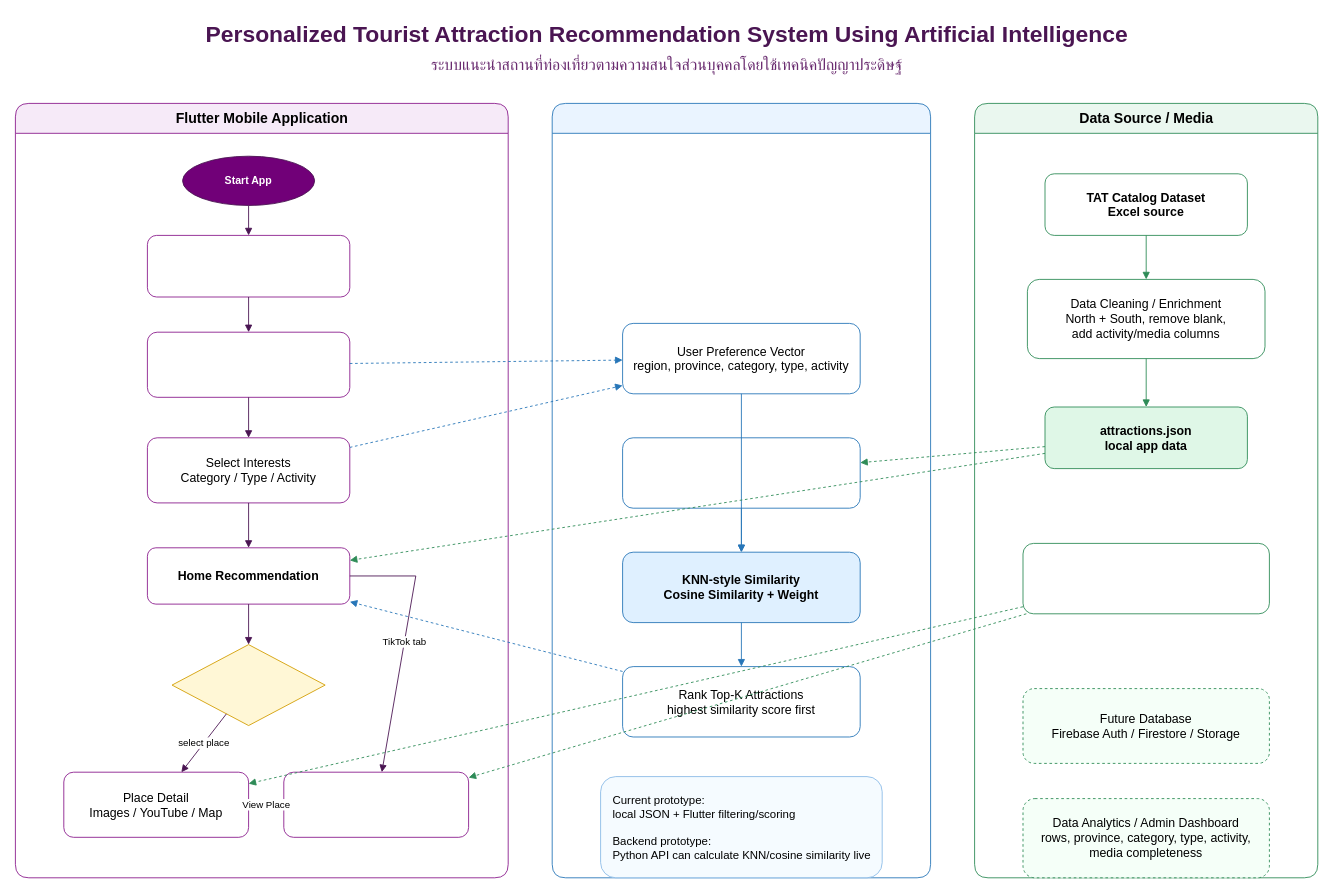
This 1333x893 diagram has some shape labels left out. The shapes that lost their labels are listed below. From the top down, each one's box as (x1, y1, x2, y2) in pixels, then its label:
(147, 235, 350, 297): Login / Register (placeholder UI)
(147, 331, 350, 397): Select Region / Province ภาคเหนือ / ภาคใต้
(622, 437, 860, 508): Attraction Feature Vector one-hot / weighted features
(551, 103, 931, 878): Recommendation / AI Logic
(1022, 543, 1269, 614): Media URLs IMAGE_URLS / YOUTUBE_URLS / TIKTOK_URLS
(171, 644, 325, 726): User Search?
(283, 771, 469, 837): TikTok Feed Short video + View Place
